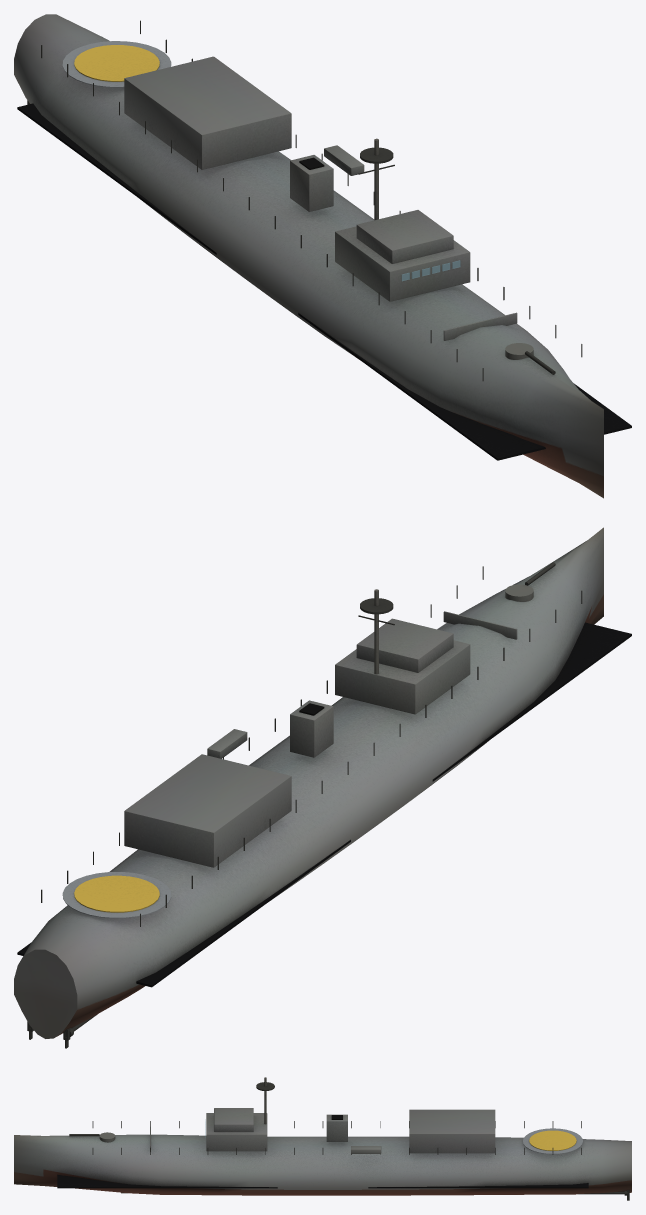
Rendered from sphere-vessel.glb.
The picture shows the model from 3 angles, top to bottom: view 1: azimuth 30°, elevation 25°; view 2: azimuth 150°, elevation 25°; view 3: azimuth 270°, elevation 25°; orthographic projection. The views are drawn at different scales.
Visible parts, largest first — view 1: hull; view 2: hull; view 3: hull.
Boxes of the visible parts, left/top/right/bottom form: hull: left=14, top=14, right=631, bottom=498; hull: left=14, top=527, right=631, bottom=1048; hull: left=14, top=1077, right=631, bottom=1200.
Bounding box in the file's own units: 12.01 × 18.1 × 86.
2 materials, 1 textured.
